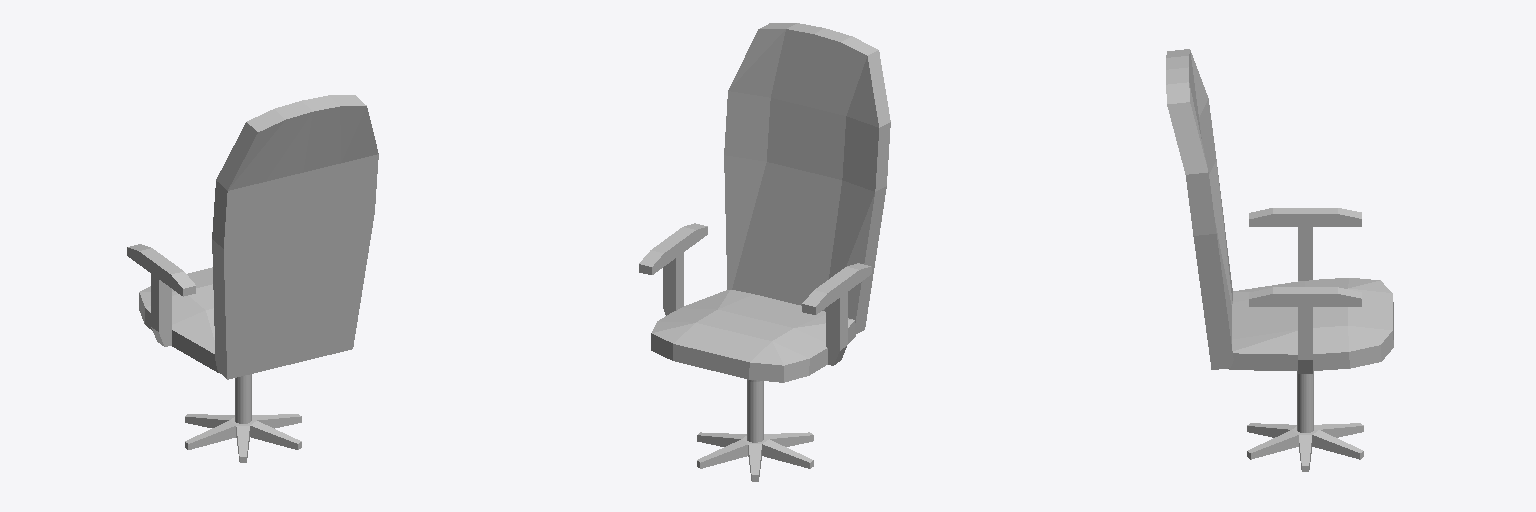
Rendered from chair.obj.
3 views of the same model, side by side, from view 1: azimuth 30°, elevation 25°; view 2: azimuth 150°, elevation 25°; view 3: azimuth 270°, elevation 25° (orthographic).
Parts seen in each view (by area): view 1: Cube.003; view 2: Cube.003; view 3: Cube.003.
Boxes of the visible parts, x1,y1,x2,y2 form: Cube.003: [127, 95, 378, 462]; Cube.003: [639, 23, 890, 481]; Cube.003: [1166, 49, 1393, 471].
Bounding box in the file's own units: 0.888 × 1.81 × 0.9925.